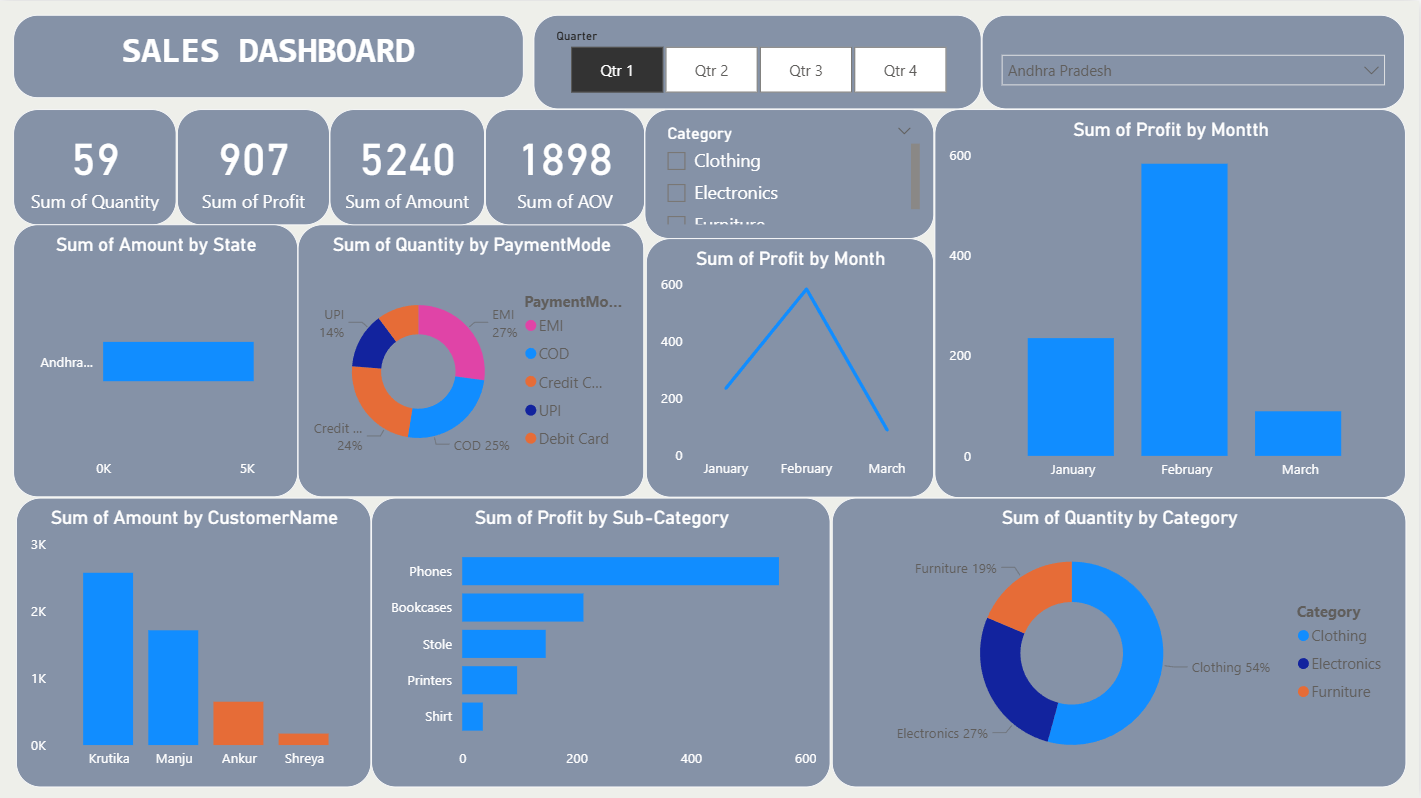

Layout of this report page (visuals, bound fields, positions):
{"tool":"powerbi","page":{"name":"Page 1","canvas":[1280,720],"ordinal":0},"visuals":[{"type":"textbox","box":[13.8,12.5,460,75],"z":0},{"type":"columnChart","title":"Sum of Profit by Montth","fields":{"Y":["Sum(Details.Profit)"],"Category":["Orders.Order Date.Variation.Date Hierarchy.Month"]},"box":[843.2,97.1,424.6,350.3],"z":1000},{"type":"barChart","fields":{"Category":["Details.Sub-Category"],"Y":["Sum(Details.Profit)"]},"box":[336.7,447.4,414,260.9],"z":2000},{"type":"donutChart","fields":{"Y":["Sum(Details.Quantity)"],"Category":["Details.Category"]},"box":[750.7,447.4,517.2,260.9],"z":3000},{"type":"donutChart","fields":{"Y":["Sum(Details.Quantity)"],"Category":["Details.PaymentMode"]},"box":[270,201.7,312.4,245.7],"z":4000},{"type":"card","fields":{"Values":["Sum(Details.Quantity)"]},"box":[13.6,97.1,147.1,104.6],"z":5000},{"type":"card","fields":{"Values":["Sum(Details.Amount)"]},"box":[298.8,97.1,139.5,104.6],"z":6000},{"type":"card","fields":{"Values":["Sum(Details.Profit)"]},"box":[160.8,97.1,138,104.6],"z":7000},{"type":"card","fields":{"Values":["Sum(Details.AOV)"]},"box":[438.3,97.1,144.1,104.6],"z":8000},{"type":"barChart","fields":{"Category":["Orders.State"],"Y":["Sum(Details.Amount)"]},"box":[13.6,201.7,256.3,245.7],"z":9000},{"type":"columnChart","fields":{"Category":["Orders.CustomerName"],"Y":["Sum(Details.Amount)"]},"box":[16.7,447.4,320,260.9],"z":10000},{"type":"slicer","fields":{"Values":["Orders.Order Date.Variation.Date Hierarchy.Quarter"]},"box":[482.5,12.5,403.8,85],"z":11000},{"type":"slicer","fields":{"Values":["Orders.State"]},"box":[886.2,12.5,381.2,85],"z":12000},{"type":"slicer","fields":{"Values":["Elements.Category"]},"box":[582.4,97.1,260.9,116.8],"z":13000},{"type":"lineChart","fields":{"Category":["Directives.Order Date.Variation.Date Hierarchy.Month"],"Y":["Sum(Elements.Profit)"]},"box":[583.9,213.8,259.3,233.6],"z":14000}]}

Visuals, with their boxes in screenshot pixels (x1, y1, x2, y2), scaled from the page's 1280x720 canvas onto the 1421x798 screenshot:
textbox: [left=15, top=14, right=526, bottom=97]
"Sum of Profit by Montth" columnChart: [left=936, top=108, right=1407, bottom=496]
barChart - Details.Sub-Category x Sum(Details.Profit): [left=374, top=496, right=833, bottom=785]
donutChart - Sum(Details.Quantity) x Details.Category: [left=833, top=496, right=1408, bottom=785]
donutChart - Sum(Details.Quantity) x Details.PaymentMode: [left=300, top=224, right=647, bottom=496]
card - Sum(Details.Quantity): [left=15, top=108, right=178, bottom=224]
card - Sum(Details.Amount): [left=332, top=108, right=487, bottom=224]
card - Sum(Details.Profit): [left=179, top=108, right=332, bottom=224]
card - Sum(Details.AOV): [left=487, top=108, right=647, bottom=224]
barChart - Orders.State x Sum(Details.Amount): [left=15, top=224, right=300, bottom=496]
columnChart - Orders.CustomerName x Sum(Details.Amount): [left=19, top=496, right=374, bottom=785]
slicer - Orders.Order Date.Variation.Date Hierarchy.Quarter: [left=536, top=14, right=984, bottom=108]
slicer - Orders.State: [left=984, top=14, right=1407, bottom=108]
slicer - Elements.Category: [left=647, top=108, right=936, bottom=237]
lineChart - Directives.Order Date.Variation.Date Hierarchy.Month x Sum(Elements.Profit): [left=648, top=237, right=936, bottom=496]
